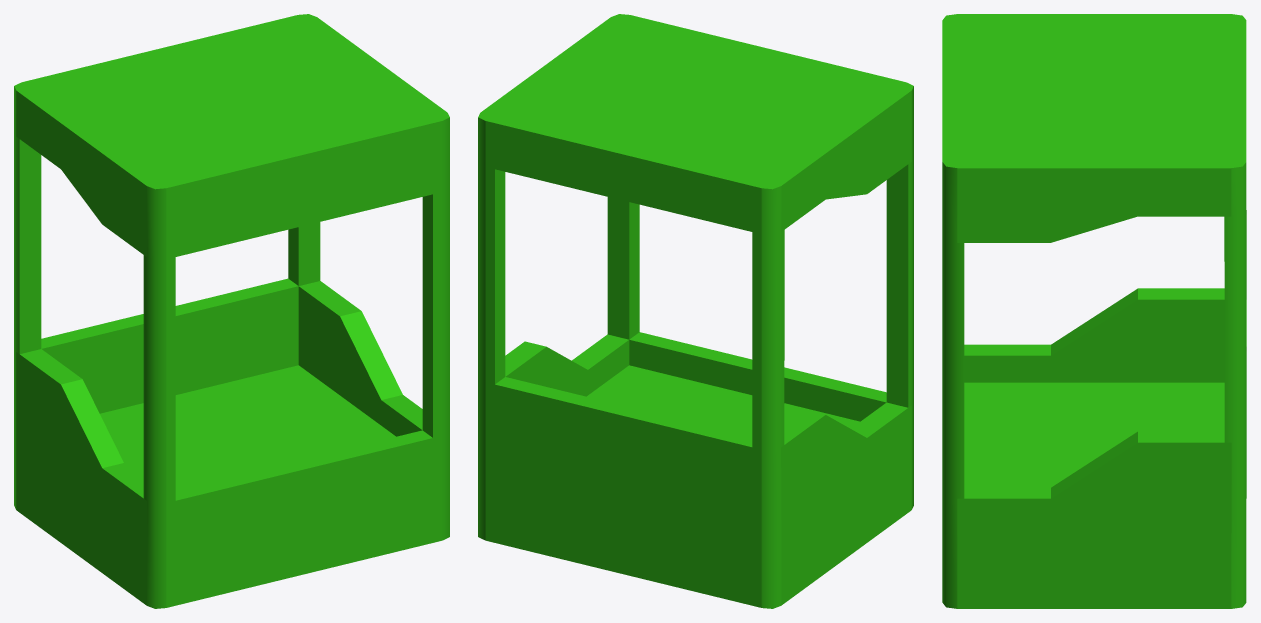
File: SM_HydroponicSystem_E.fbx
3 views of the same model, side by side, from view 1: azimuth 30°, elevation 25°; view 2: azimuth 150°, elevation 25°; view 3: azimuth 270°, elevation 25° (orthographic). The views are drawn at different scales.
Parts seen in each view (by area): view 1: SM_HydroponicSystem_E; view 2: SM_HydroponicSystem_E; view 3: SM_HydroponicSystem_E.
Boxes of the visible parts, x1=… form: SM_HydroponicSystem_E: x1=14, y1=14, x2=449, y2=608; SM_HydroponicSystem_E: x1=478, y1=14, x2=913, y2=608; SM_HydroponicSystem_E: x1=942, y1=14, x2=1246, y2=608.
Bounding box in the file's own units: 300 × 250 × 400.
